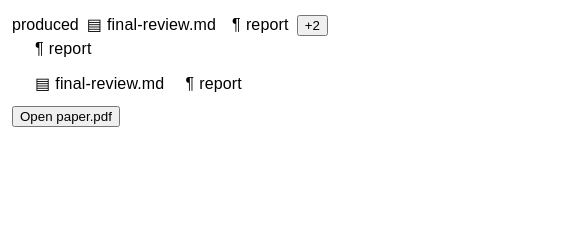
Test: produced files › shows chips from evidence on each step and a finished run leads Produced with its final review
The width and height of the screenshot is (580, 234).
Expected: the buttons read "▤final-review.md", "¶report", in this order, x1=27 y1=71 x2=172 y2=96; x1=177 y1=71 x2=250 y2=96
Expected: the buttons read "¶report", in this order, x1=27 y1=37 x2=100 y2=61
Step 1. Click the button named "2 more produced files" → (312,26), box x1=297 y1=15 x2=328 y2=36
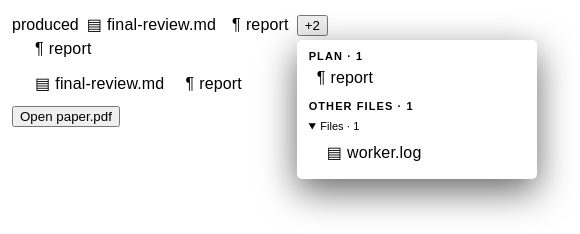
Expected: the text "Plan · 1" is shown, x1=309 y1=50 x2=363 y2=62
Expected: the text "Other files · 1" is shown, x1=309 y1=100 x2=414 y2=112
Expected: the menu items read "¶report", "▤worker.log", in this order
Step 2. Press ArrowDown in the menu item "¶ report", box x1=309 y1=66 x2=381 y2=90
Step 3. Press ArrowDown in the menu item "▤ worker.log", box x1=319 y1=140 x2=429 y2=165
Step 4. Press ArrowUp in the menu item "¶ report", box x1=309 y1=66 x2=381 y2=90
// Escape closes it and gives focus back to its button.
Step 5. Press Escape in the menu item "▤ worker.log", box x1=319 y1=140 x2=429 y2=165
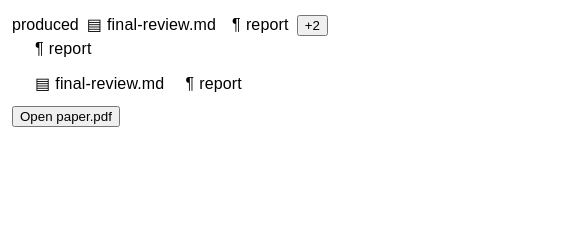
Expected: the menu is gone
// So does Tab, rather than leaving focus at the end of the page.
Step 6. Click the button named "2 more produced files" → (312,26), box x1=297 y1=15 x2=328 y2=36
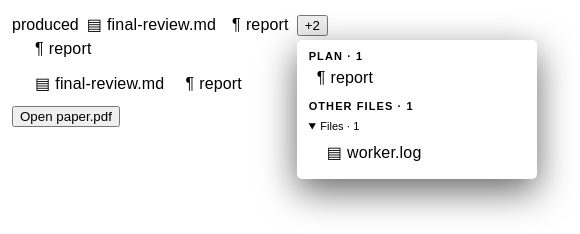
Step 7. Press Tab in the menu item "¶ report", box x1=309 y1=66 x2=381 y2=90
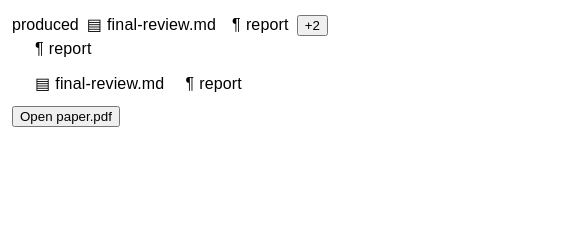
Expected: the menu is gone
